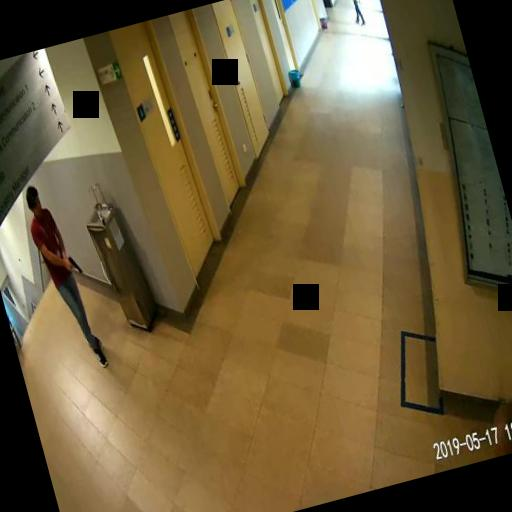Handgun: (62, 251, 79, 275)
